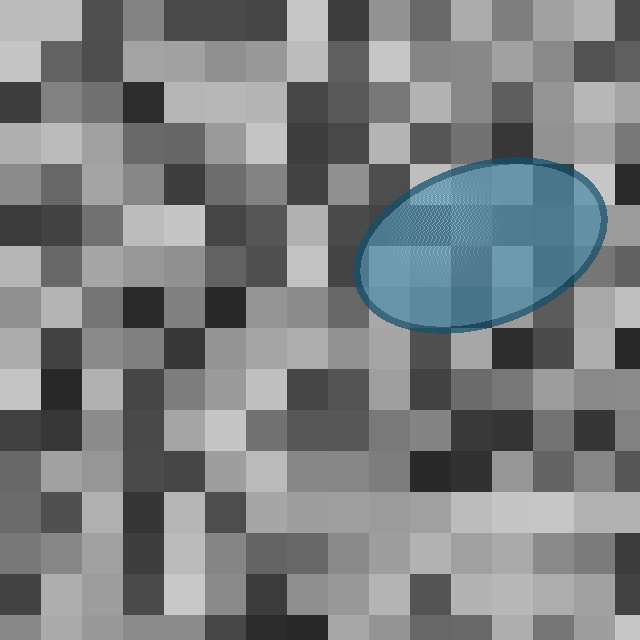lens: (357, 160, 603, 330)
